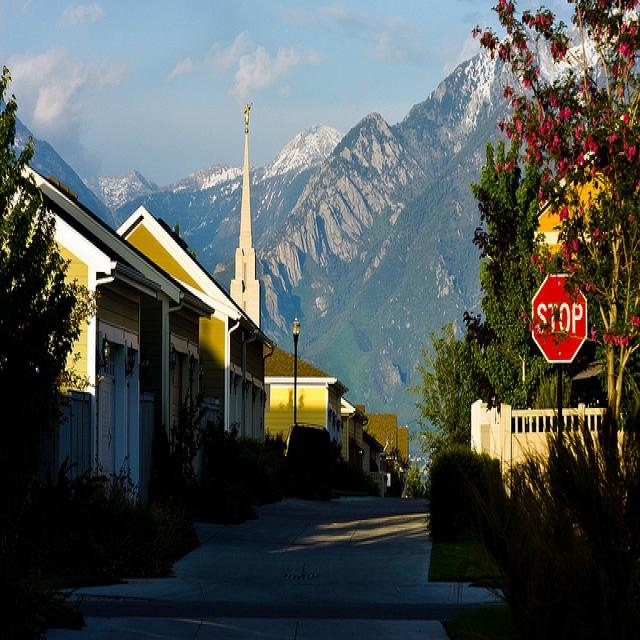Vehicle: (281, 424, 336, 496)
